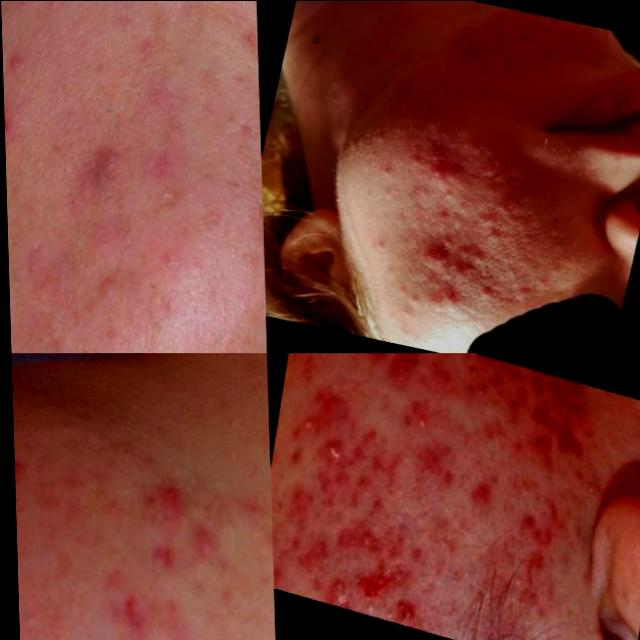7: (423, 374, 447, 406)
8: (99, 580, 150, 640), (180, 517, 223, 569), (136, 536, 177, 590), (148, 472, 186, 522), (546, 388, 585, 432), (441, 238, 494, 270), (420, 280, 462, 320), (422, 159, 461, 193), (10, 448, 35, 500), (441, 256, 478, 288), (242, 64, 259, 132), (494, 44, 526, 78), (473, 157, 504, 187), (417, 84, 444, 112), (475, 14, 501, 40), (468, 280, 496, 302), (511, 283, 539, 305), (254, 526, 269, 564)
9: (402, 398, 433, 438)
blackheads: (509, 540, 548, 590), (353, 557, 390, 607), (317, 560, 353, 606), (386, 590, 422, 626), (316, 434, 347, 473)
dark spot: (506, 467, 536, 512), (472, 208, 500, 230), (484, 230, 500, 246)
pustules: (73, 89, 132, 219), (417, 238, 449, 274)
whiteheads: (574, 467, 599, 501), (292, 401, 316, 436)
